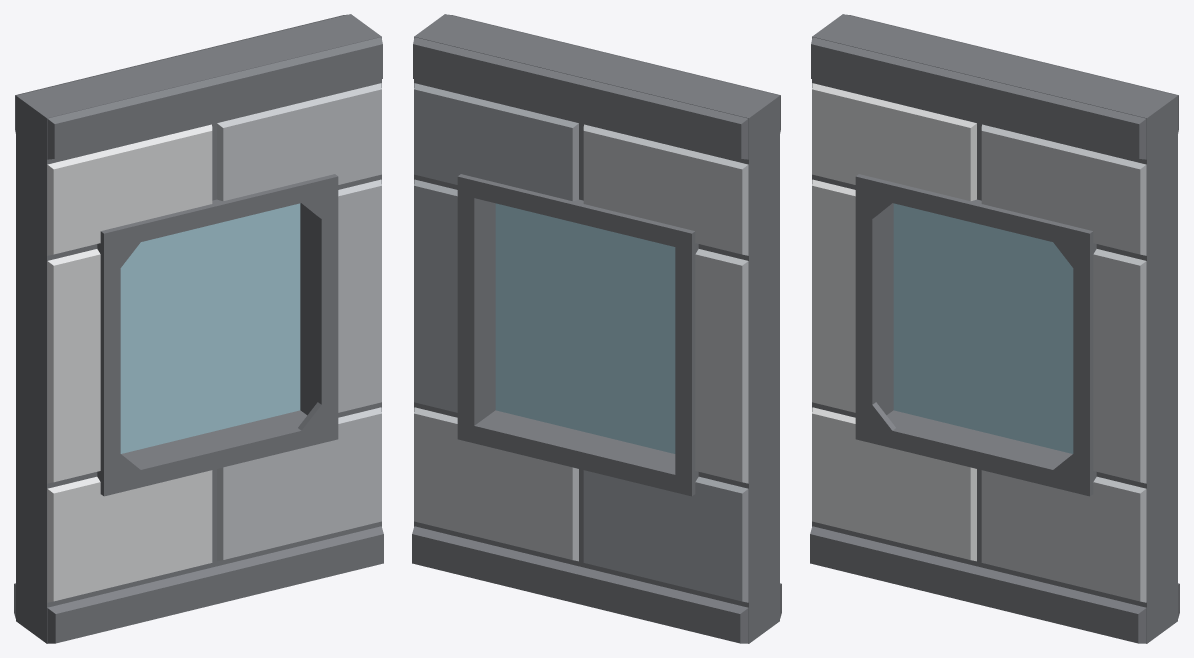
File: SM_Wall_Window.glb
3 views of the same model, side by side, from view 1: azimuth 30°, elevation 25°; view 2: azimuth 150°, elevation 25°; view 3: azimuth 330°, elevation 25° (orthographic).
Parts seen in each view (by area): view 1: SM_Wall_Window; view 2: SM_Wall_Window; view 3: SM_Wall_Window.
Boxes of the visible parts, x1=… form: SM_Wall_Window: x1=14, y1=14, x2=383, y2=643; SM_Wall_Window: x1=412, y1=14, x2=781, y2=643; SM_Wall_Window: x1=810, y1=14, x2=1179, y2=643.
Bounding box in the file's own units: 2 × 3 × 0.46.
